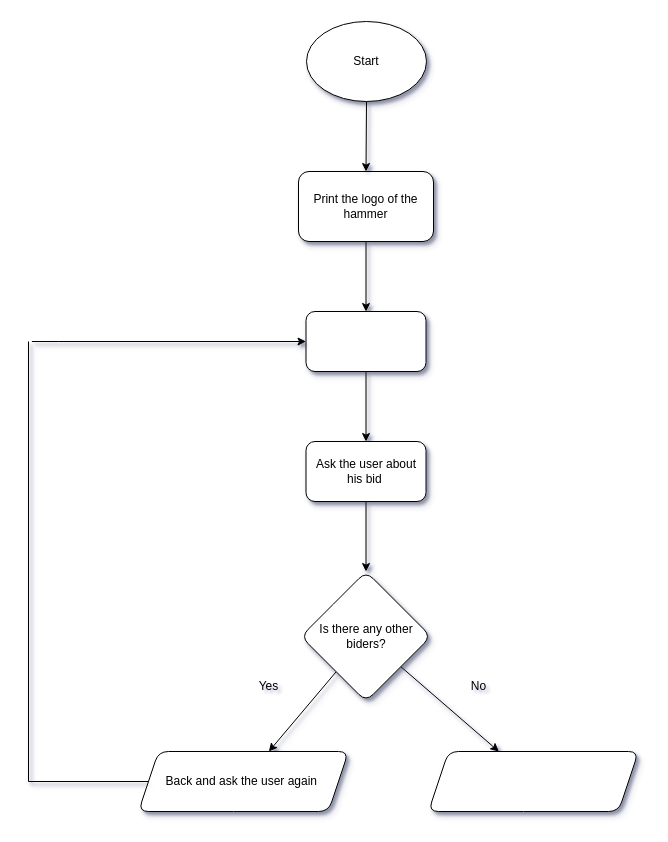
The diagram is 668 pixels wide and 842 high, and some of its shapes have lost their labels. Here are the shapes that lost their labels. From the top down, the centre of each, then its label:
At pixel 366 342: "Ask the user of his name".
At pixel 534 782: "Print the higher bid and the bider name".
